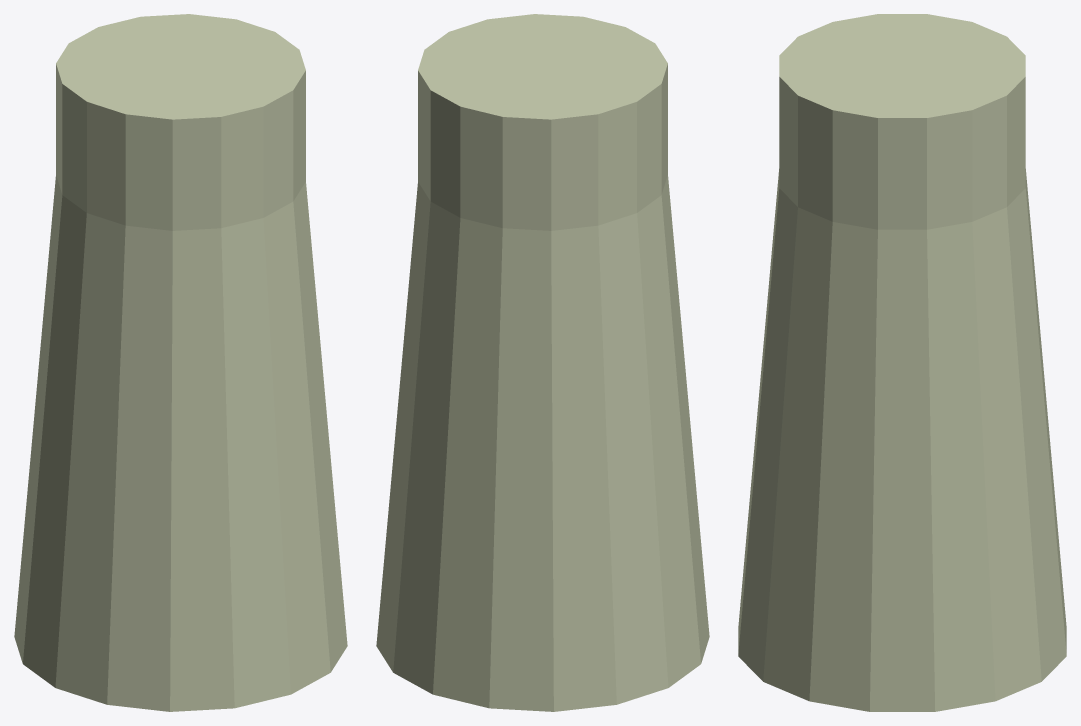
Rendered from LLV_B_Engine_1_Aero_Collider.obj.
3 views of the same model, side by side, from view 1: azimuth 30°, elevation 25°; view 2: azimuth 150°, elevation 25°; view 3: azimuth 270°, elevation 25° (orthographic).
Parts seen in each view (by area): view 1: LLV_B_Engine_1_Aero_Collider2, LLV_B_Engine_1_Aero_Collider1; view 2: LLV_B_Engine_1_Aero_Collider2, LLV_B_Engine_1_Aero_Collider1; view 3: LLV_B_Engine_1_Aero_Collider2, LLV_B_Engine_1_Aero_Collider1.
Boxes of the visible parts, box(x1,y1,x2,y2) form: LLV_B_Engine_1_Aero_Collider2: box(14, 175, 347, 711); LLV_B_Engine_1_Aero_Collider1: box(56, 14, 305, 230); LLV_B_Engine_1_Aero_Collider2: box(376, 175, 709, 711); LLV_B_Engine_1_Aero_Collider1: box(418, 14, 667, 230); LLV_B_Engine_1_Aero_Collider2: box(738, 169, 1066, 711); LLV_B_Engine_1_Aero_Collider1: box(779, 14, 1025, 229).
Size of the model in its own units: 5 by 9.68 by 5.
